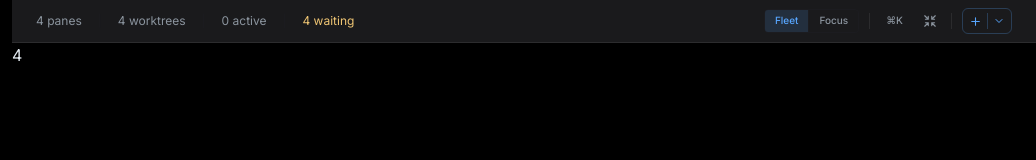
Test: AttentionPeek › rows › replaces the third row with the remaining count past three waiting panes
Click the button with test id "resource-attention-stat". click: {"x": 328, "y": 21}
box: x1=302 y1=13 x2=354 y2=29
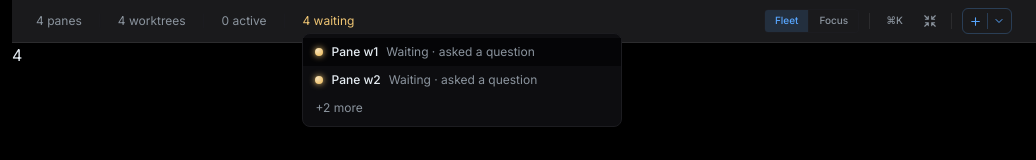
Result: the number of menu items with test id "attention-peek-row" is 2 at x1=304 y1=38 x2=622 y2=66; x1=304 y1=66 x2=622 y2=94
Result: the menu item with test id "attention-peek-more" reads "+2 more" at x1=304 y1=94 x2=622 y2=122
Result: the number of menu items is 3 at x1=304 y1=38 x2=622 y2=66; x1=304 y1=66 x2=622 y2=94; x1=304 y1=94 x2=622 y2=122
